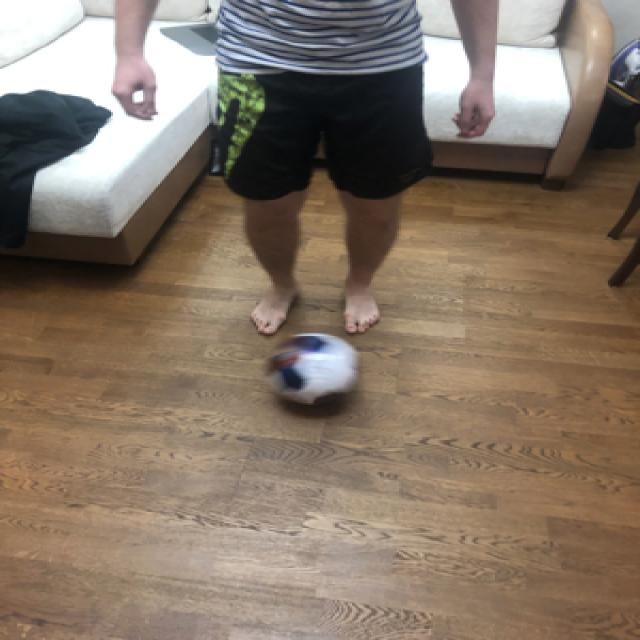soccer_ball: (258, 328, 363, 408)
